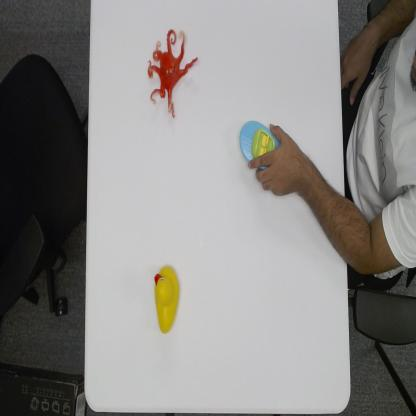Arm: (296, 143, 405, 283)
Boat: (239, 119, 279, 169)
Duck: (152, 260, 180, 336)
Hand: (247, 120, 305, 199)
Octopus: (146, 26, 200, 121)
